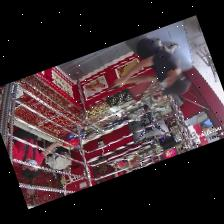person: (112, 34, 189, 95), (12, 140, 47, 164), (111, 170, 128, 178)
